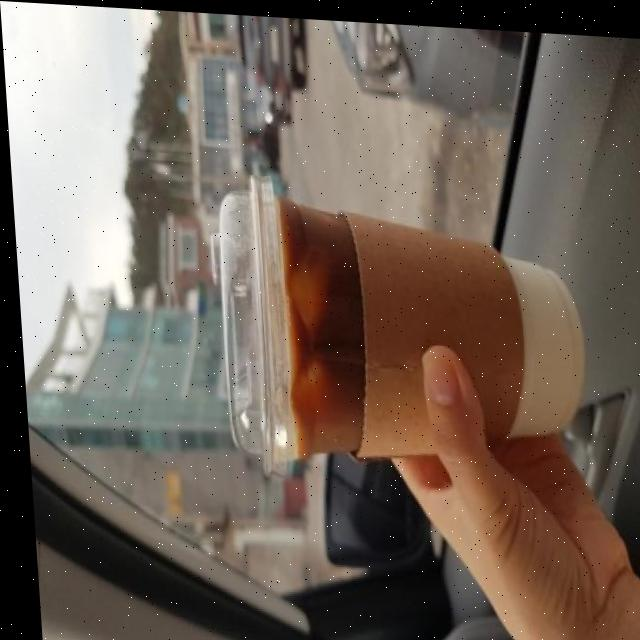cup: (196, 170, 602, 484)
